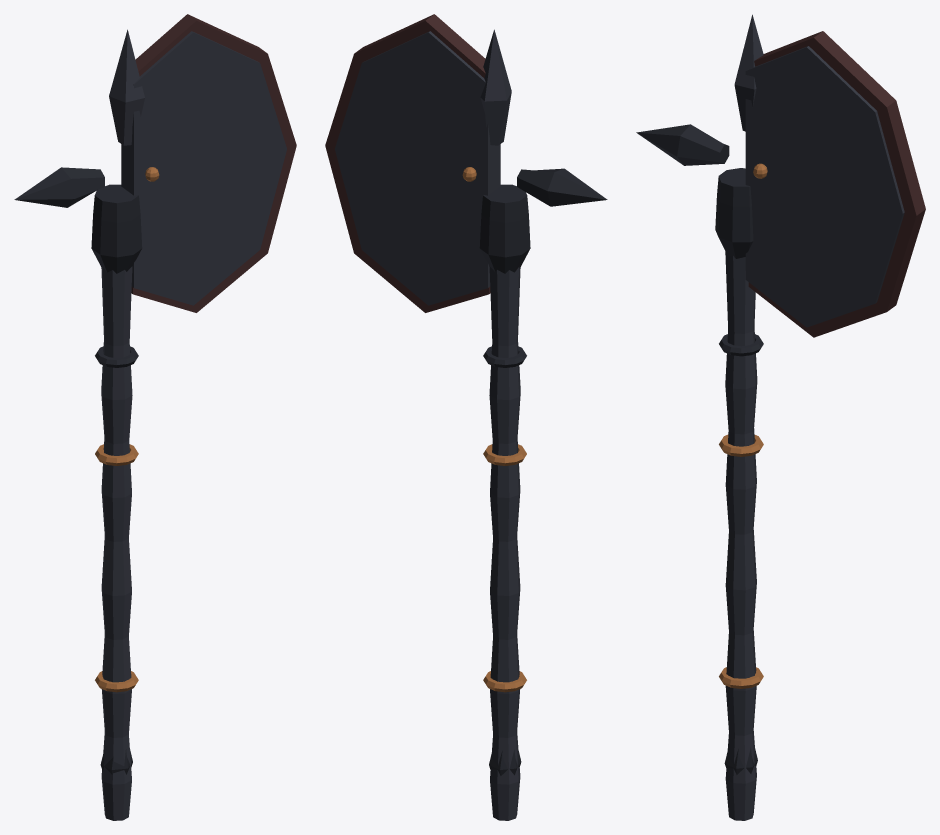
Rendered from staff_blackaxe.glb.
3 views of the same model, side by side, from view 1: azimuth 30°, elevation 25°; view 2: azimuth 150°, elevation 25°; view 3: azimuth 330°, elevation 25° (orthographic). The views are drawn at different scales.
Visible parts, largest first — view 1: Bx_Blade, Bx_Shaft, Bx_Edge, Bx_Neck, Bx_TopSpike, Bx_BackSpike, Bx_Band1, Bx_Band2; view 2: Bx_Blade, Bx_Shaft, Bx_Edge, Bx_Neck, Bx_BackSpike, Bx_TopSpike, Bx_Band1, Bx_Band2; view 3: Bx_Blade, Bx_Shaft, Bx_Edge, Bx_Neck, Bx_BackSpike, Bx_TopSpike, Bx_Band1, Bx_Band2.
Boxes of the visible parts, x1,y1,x2,y2 form: Bx_Blade: (121, 31, 286, 305); Bx_Shaft: (101, 266, 132, 820); Bx_Edge: (131, 14, 296, 312); Bx_Neck: (91, 184, 142, 273); Bx_TopSpike: (109, 29, 144, 145); Bx_BackSpike: (14, 167, 104, 207); Bx_Band1: (95, 444, 138, 465); Bx_Band2: (95, 346, 138, 367); Bx_Blade: (335, 31, 500, 305); Bx_Shaft: (489, 266, 520, 820); Bx_Edge: (325, 14, 490, 312); Bx_Neck: (479, 184, 530, 273); Bx_BackSpike: (517, 168, 607, 206); Bx_TopSpike: (480, 29, 511, 145); Bx_Band1: (483, 444, 526, 465); Bx_Band2: (483, 346, 526, 367); Bx_Blade: (745, 46, 904, 327); Bx_Shaft: (725, 251, 757, 820); Bx_Edge: (748, 31, 925, 337); Bx_Neck: (715, 168, 753, 258); Bx_BackSpike: (636, 124, 729, 165); Bx_TopSpike: (734, 14, 763, 131); Bx_Band1: (719, 434, 763, 456); Bx_Band2: (719, 334, 763, 356).
Bounding box in the file's own units: 0.7719 × 2.08 × 0.1221.
